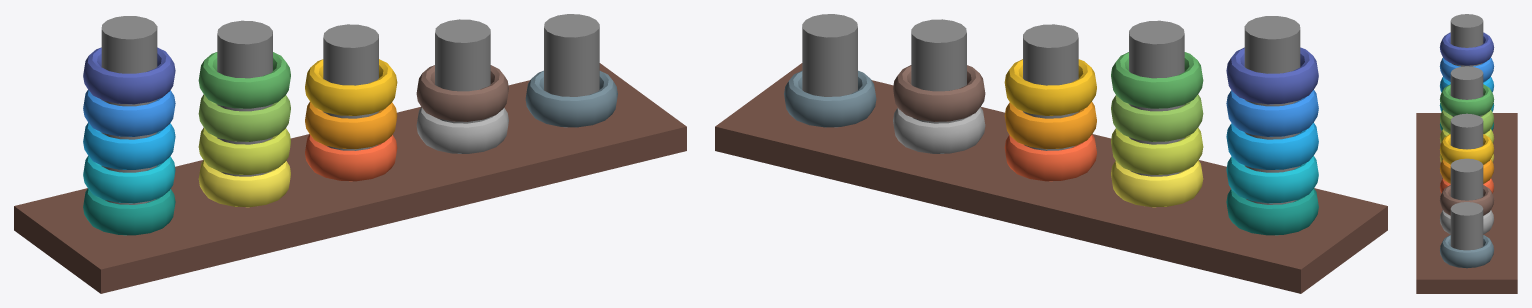
Rendered from Wooden_Toy_3.fbx.
3 renders of one model, left to right at view 1: azimuth 30°, elevation 25°; view 2: azimuth 150°, elevation 25°; view 3: azimuth 270°, elevation 25°, orthographic. The views are drawn at different scales.
Parts seen in each view (by area): view 1: Wooden_Toy_3; view 2: Wooden_Toy_3; view 3: Wooden_Toy_3.
Boxes of the visible parts, x1,y1,x2,y2 form: Wooden_Toy_3: [14, 14, 686, 293]; Wooden_Toy_3: [715, 14, 1387, 293]; Wooden_Toy_3: [1416, 14, 1517, 293].
Size of the model in its own units: 46.59 by 16.49 by 11.95.
1 material, 1 textured.
